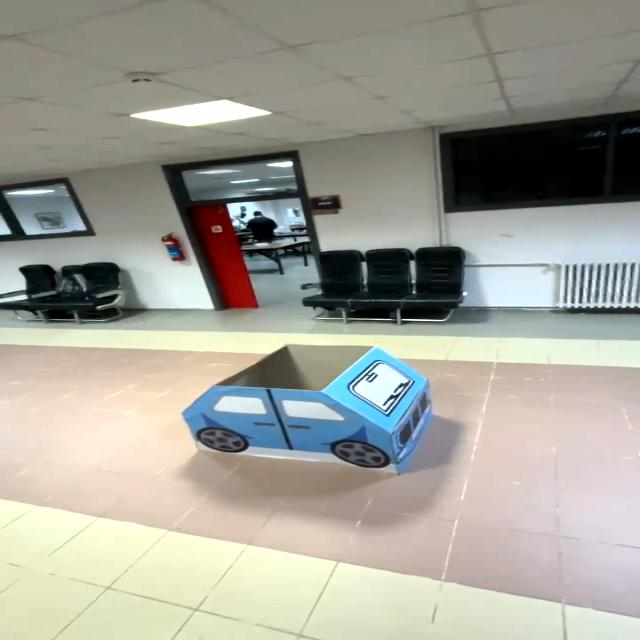blue_car: (160, 340, 449, 491)
